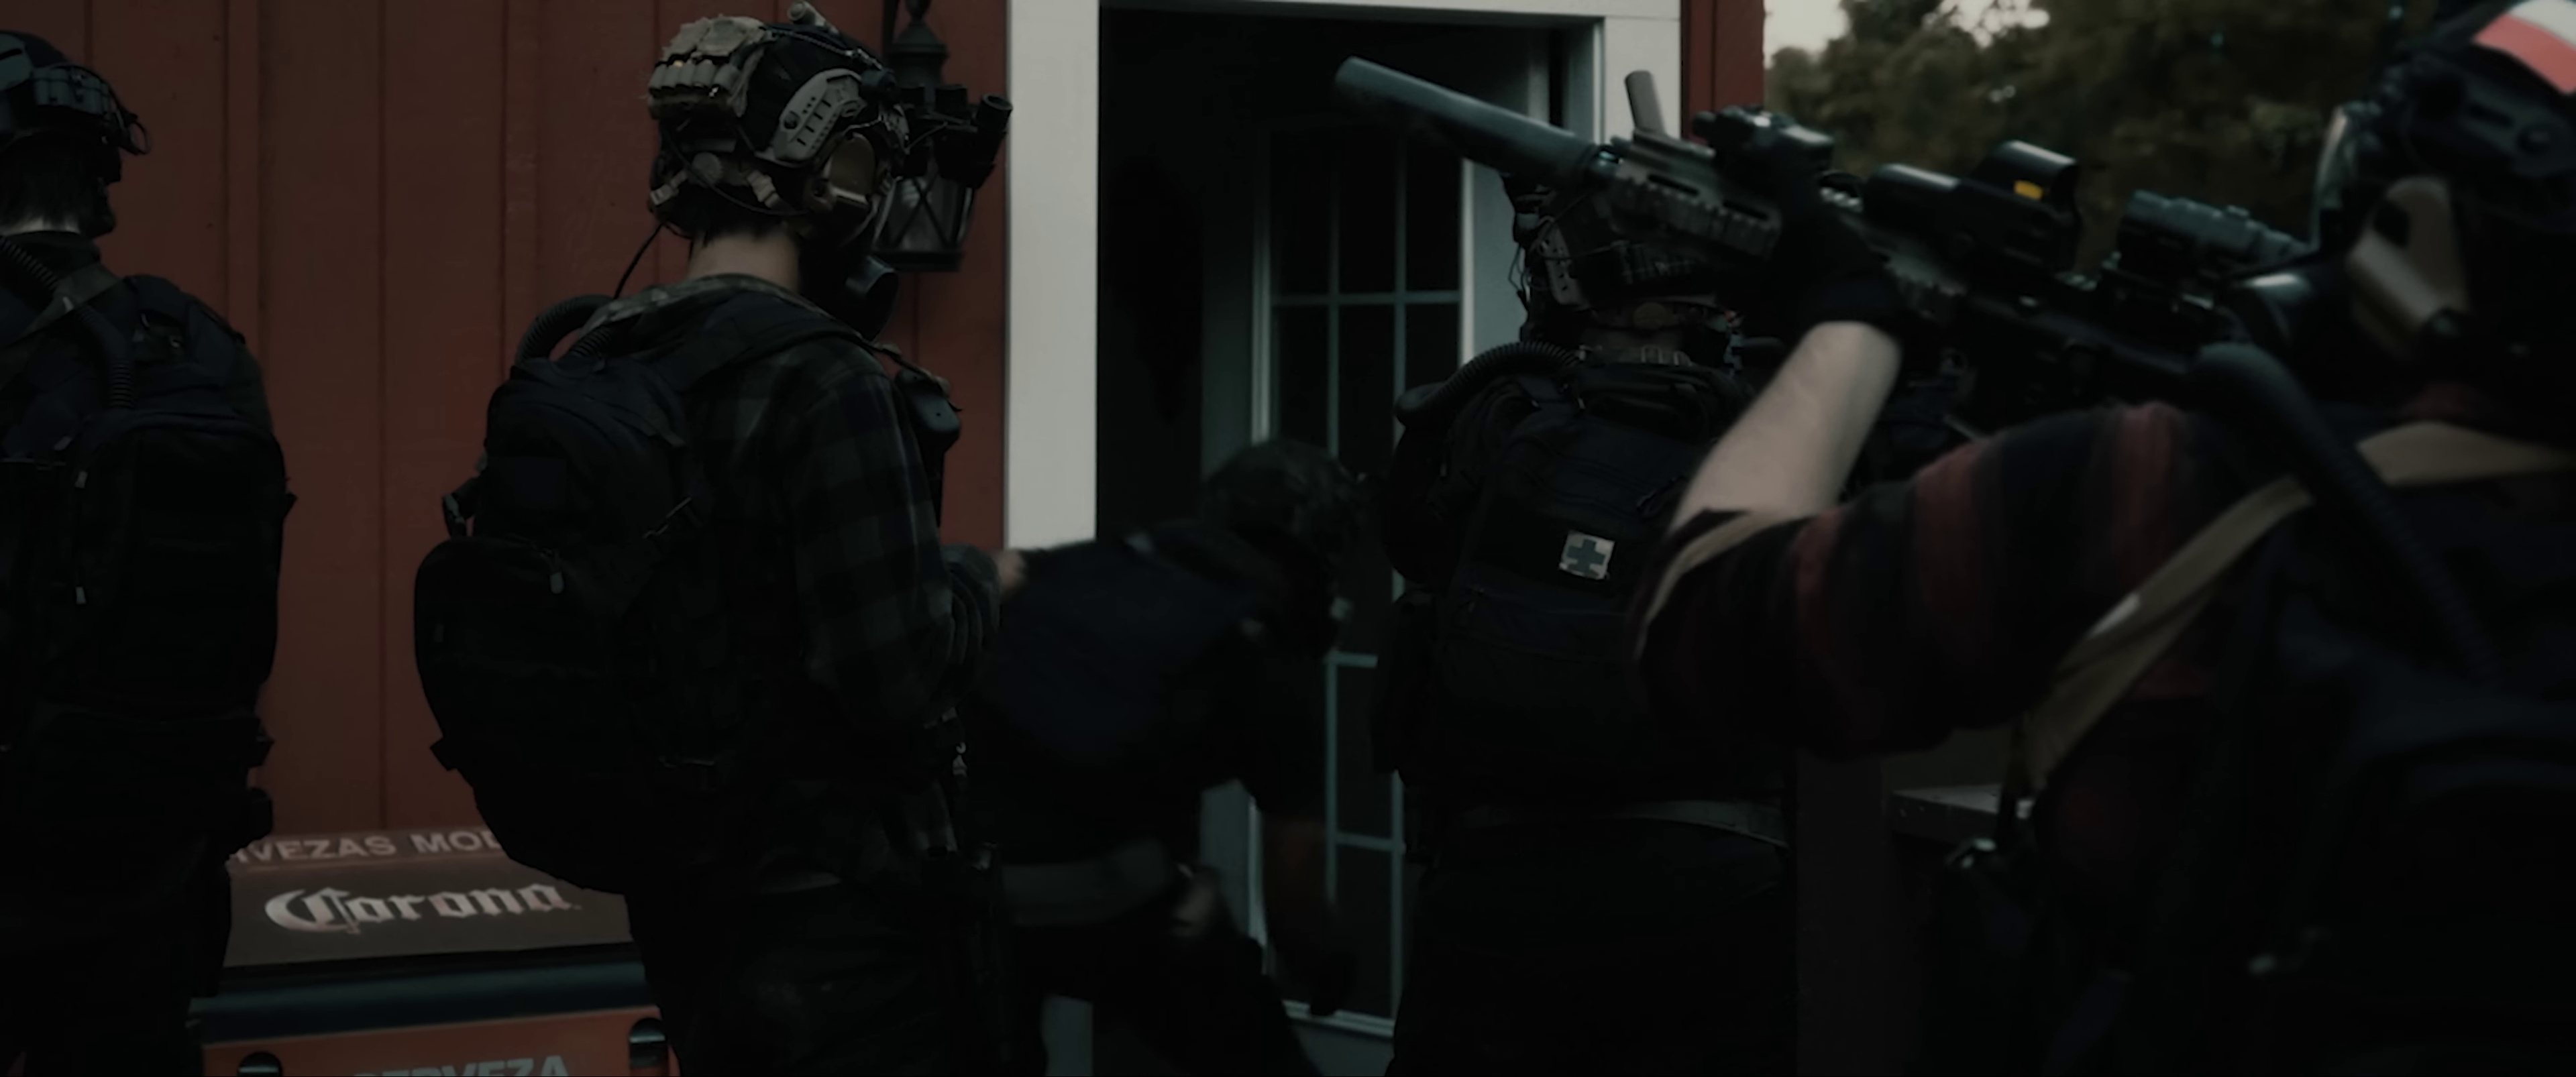gun: (1332, 16, 2331, 440)
p_w_gun: (1321, 0, 2576, 1077)
p_wo_gun_not_carrying_normal_pose: (416, 3, 1045, 1077), (0, 38, 296, 1077)
